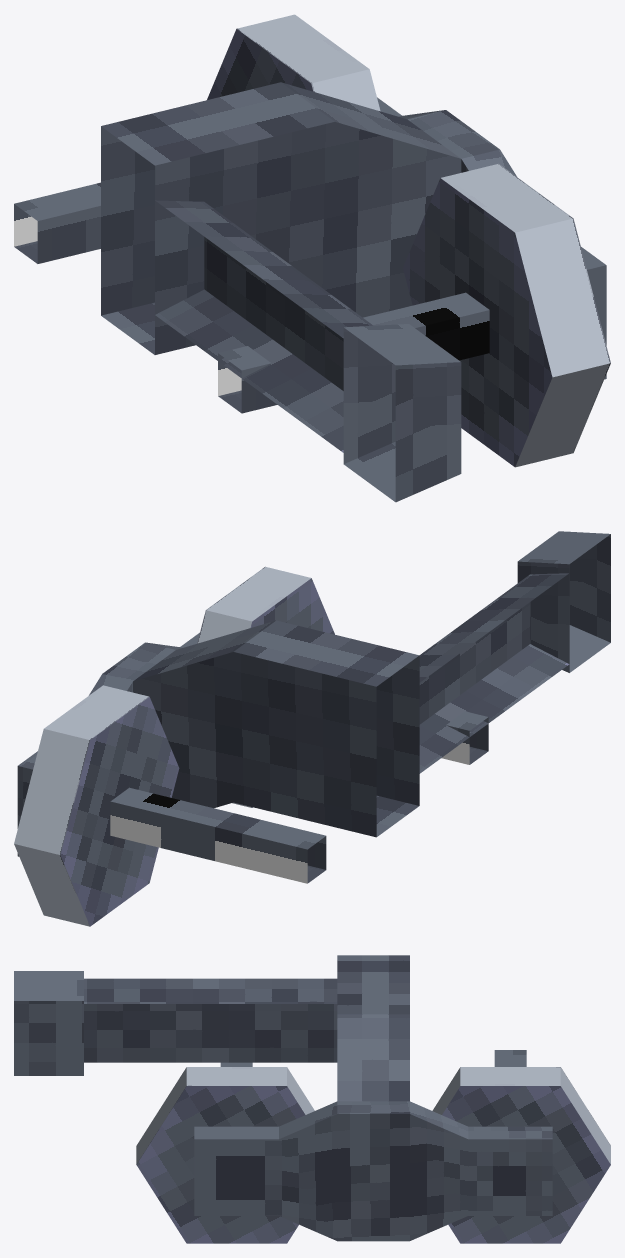
File: car-truck-front.blend.glb
3 renders of one model, top to bottom at view 1: azimuth 30°, elevation 25°; view 2: azimuth 150°, elevation 25°; view 3: azimuth 270°, elevation 25°, orthographic. The views are drawn at different scales.
Visible parts, largest first — view 1: boxcar-front-truck; view 2: boxcar-front-truck; view 3: boxcar-front-truck.
Boxes of the visible parts, box(x1,y1,x2,y2) form: boxcar-front-truck: box(14, 14, 610, 502); boxcar-front-truck: box(14, 531, 610, 926); boxcar-front-truck: box(14, 955, 610, 1243).
Size of the model in its own units: 0.7644 by 0.5928 by 1.71.
Materials: 1 (1 with a texture image).
